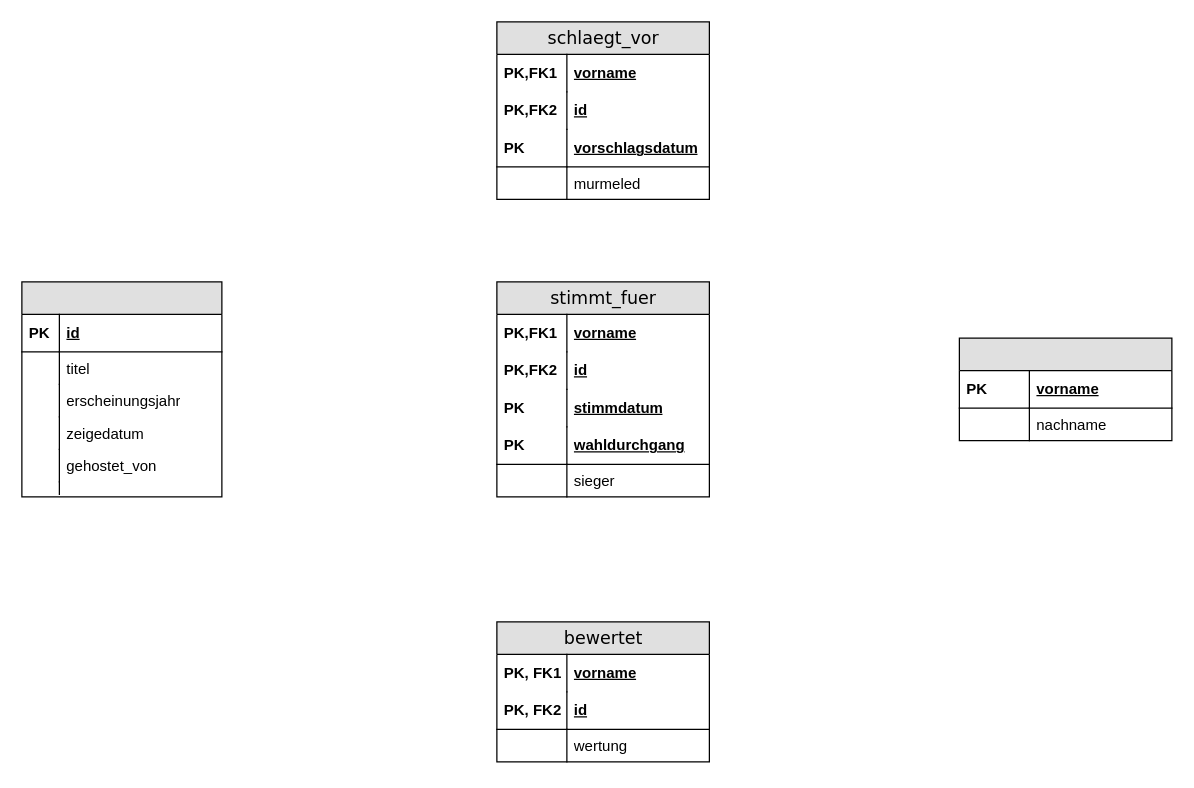
The diagram is 1194 pixels wide and 788 high, and some of its shapes have lost their labels. The shapes that lost their labels are listed below. From the top down, each one's box as (x1, y1, x2, y2) in pixels, then its label:
(21, 281, 222, 497): film
(958, 337, 1172, 441): teilnehmer
